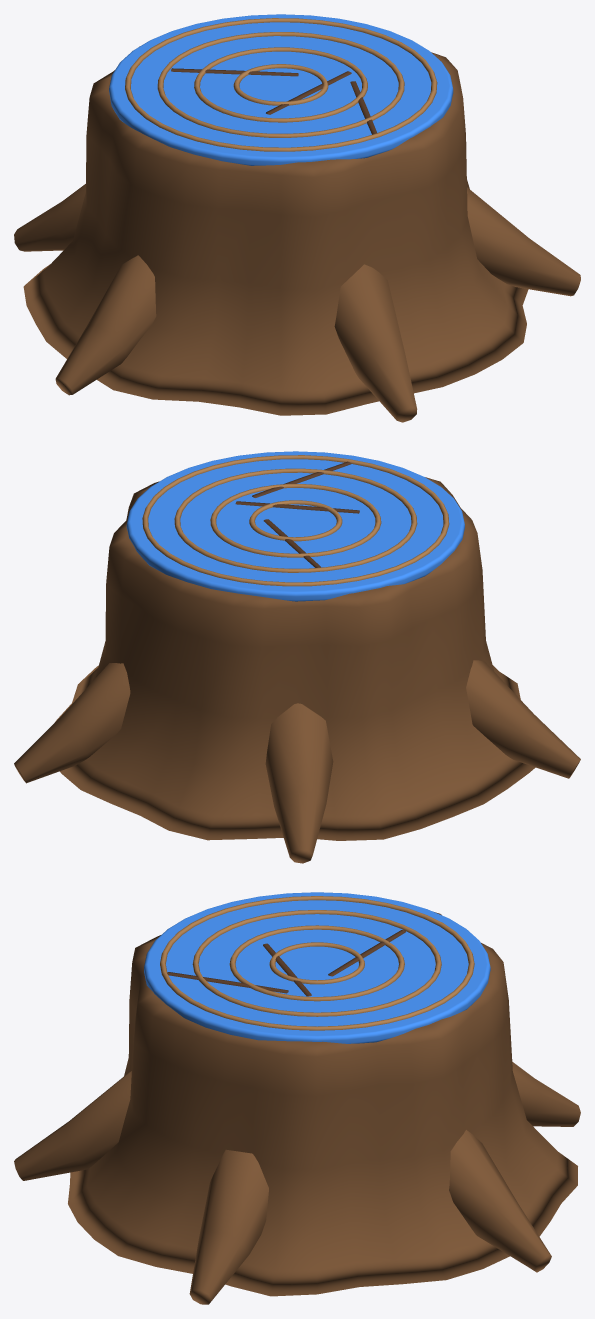
File: LogJamStump.obj
3 views of the same model, one above another, from view 1: azimuth 30°, elevation 25°; view 2: azimuth 150°, elevation 25°; view 3: azimuth 270°, elevation 25° (orthographic). The views are drawn at different scales.
Visible parts, largest first — view 1: Bark, Top, Rings, Cuts; view 2: Bark, Top, Rings, Cuts; view 3: Bark, Top, Rings, Cuts.
Boxes of the visible parts, bbox=[...] form: Bark: bbox=[14, 46, 580, 422]; Top: bbox=[109, 14, 453, 165]; Rings: bbox=[125, 18, 437, 151]; Cuts: bbox=[171, 68, 376, 134]; Bark: bbox=[14, 477, 580, 863]; Top: bbox=[126, 451, 464, 601]; Rings: bbox=[142, 455, 449, 586]; Cuts: bbox=[235, 461, 359, 567]; Bark: bbox=[14, 912, 580, 1304]; Top: bbox=[144, 892, 490, 1043]; Rings: bbox=[160, 896, 474, 1030]; Cuts: bbox=[167, 930, 405, 996].
Size of the model in its own units: 5.81 by 2.53 by 5.69.
